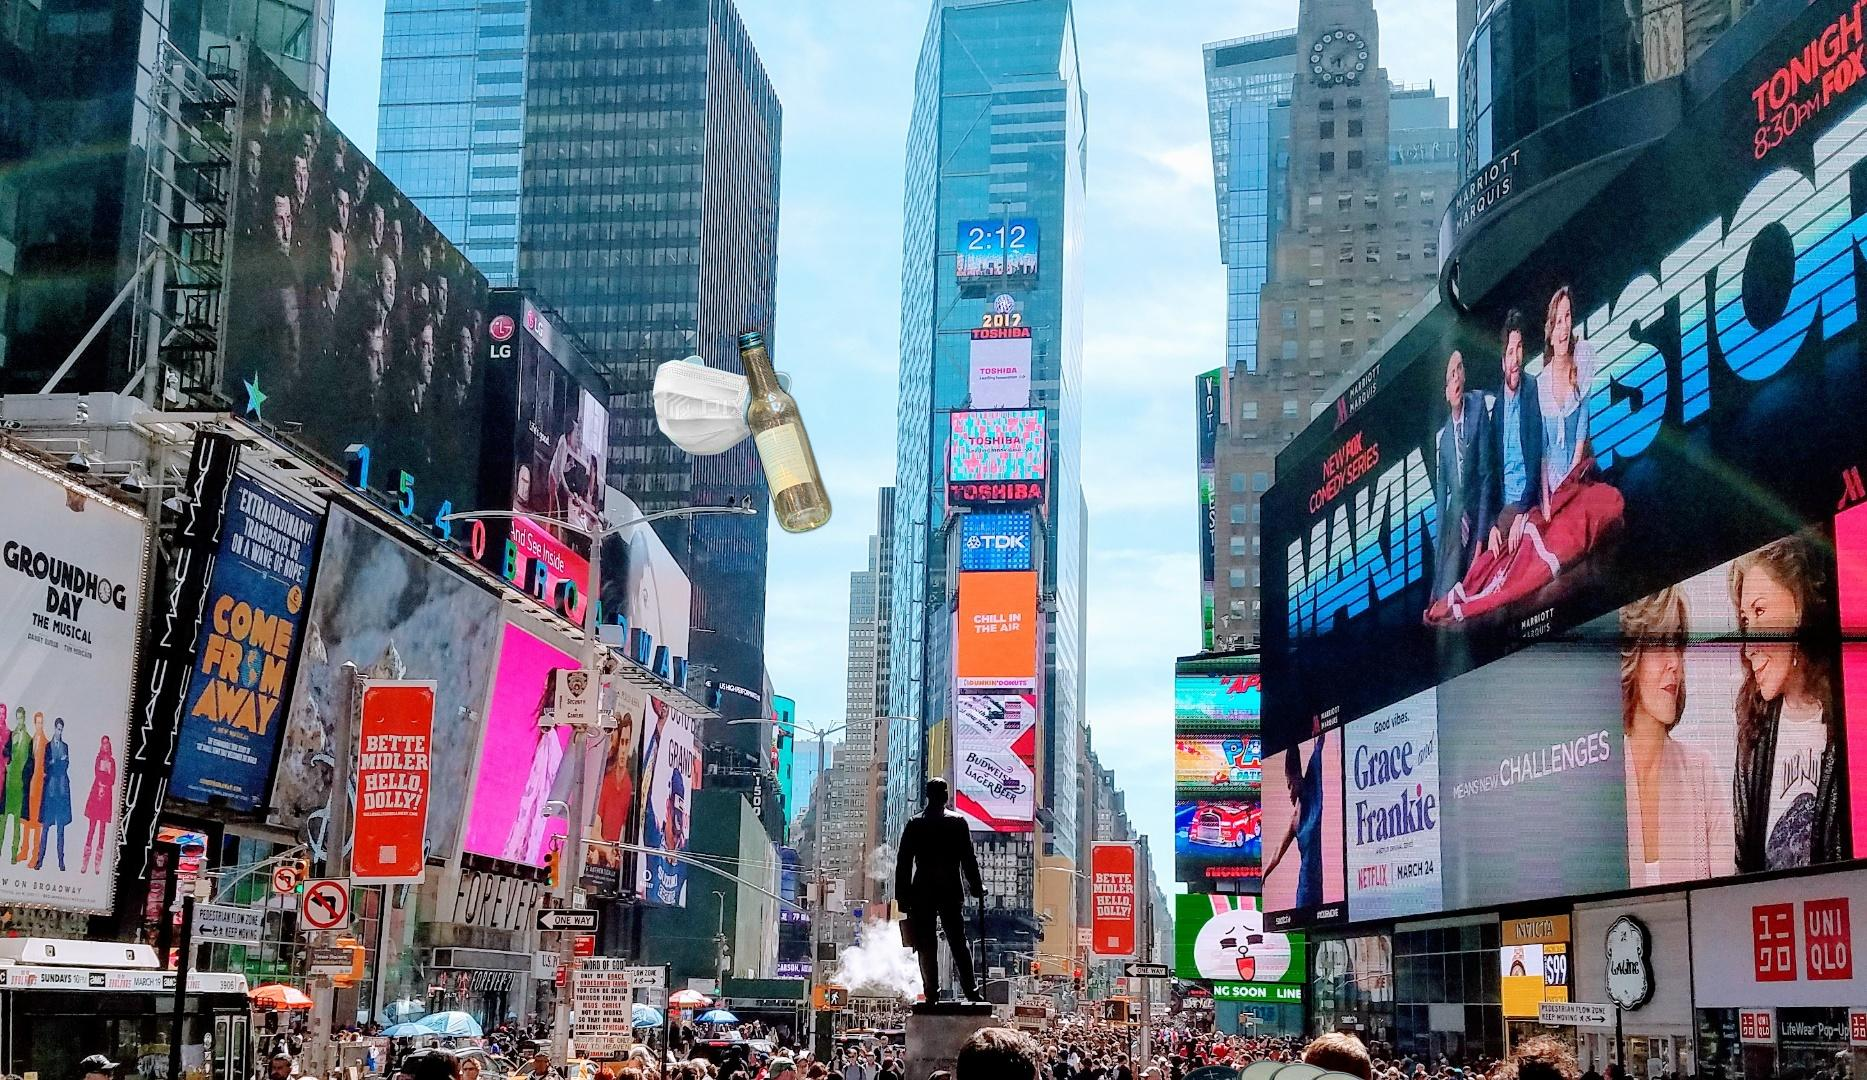battery: (1168, 1057, 1431, 1080)
glass: (733, 324, 836, 537)
penholder: (230, 1025, 678, 1080)
trash: (651, 352, 795, 459)
